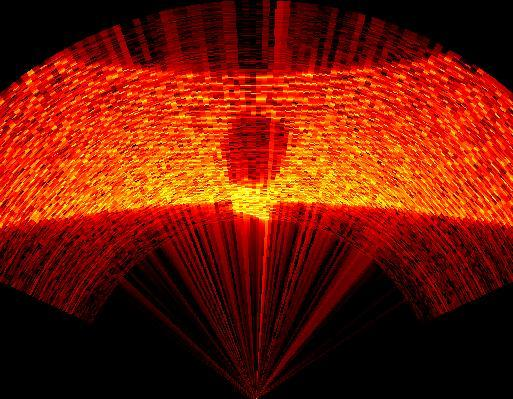box_crate: (214, 112, 295, 202)
